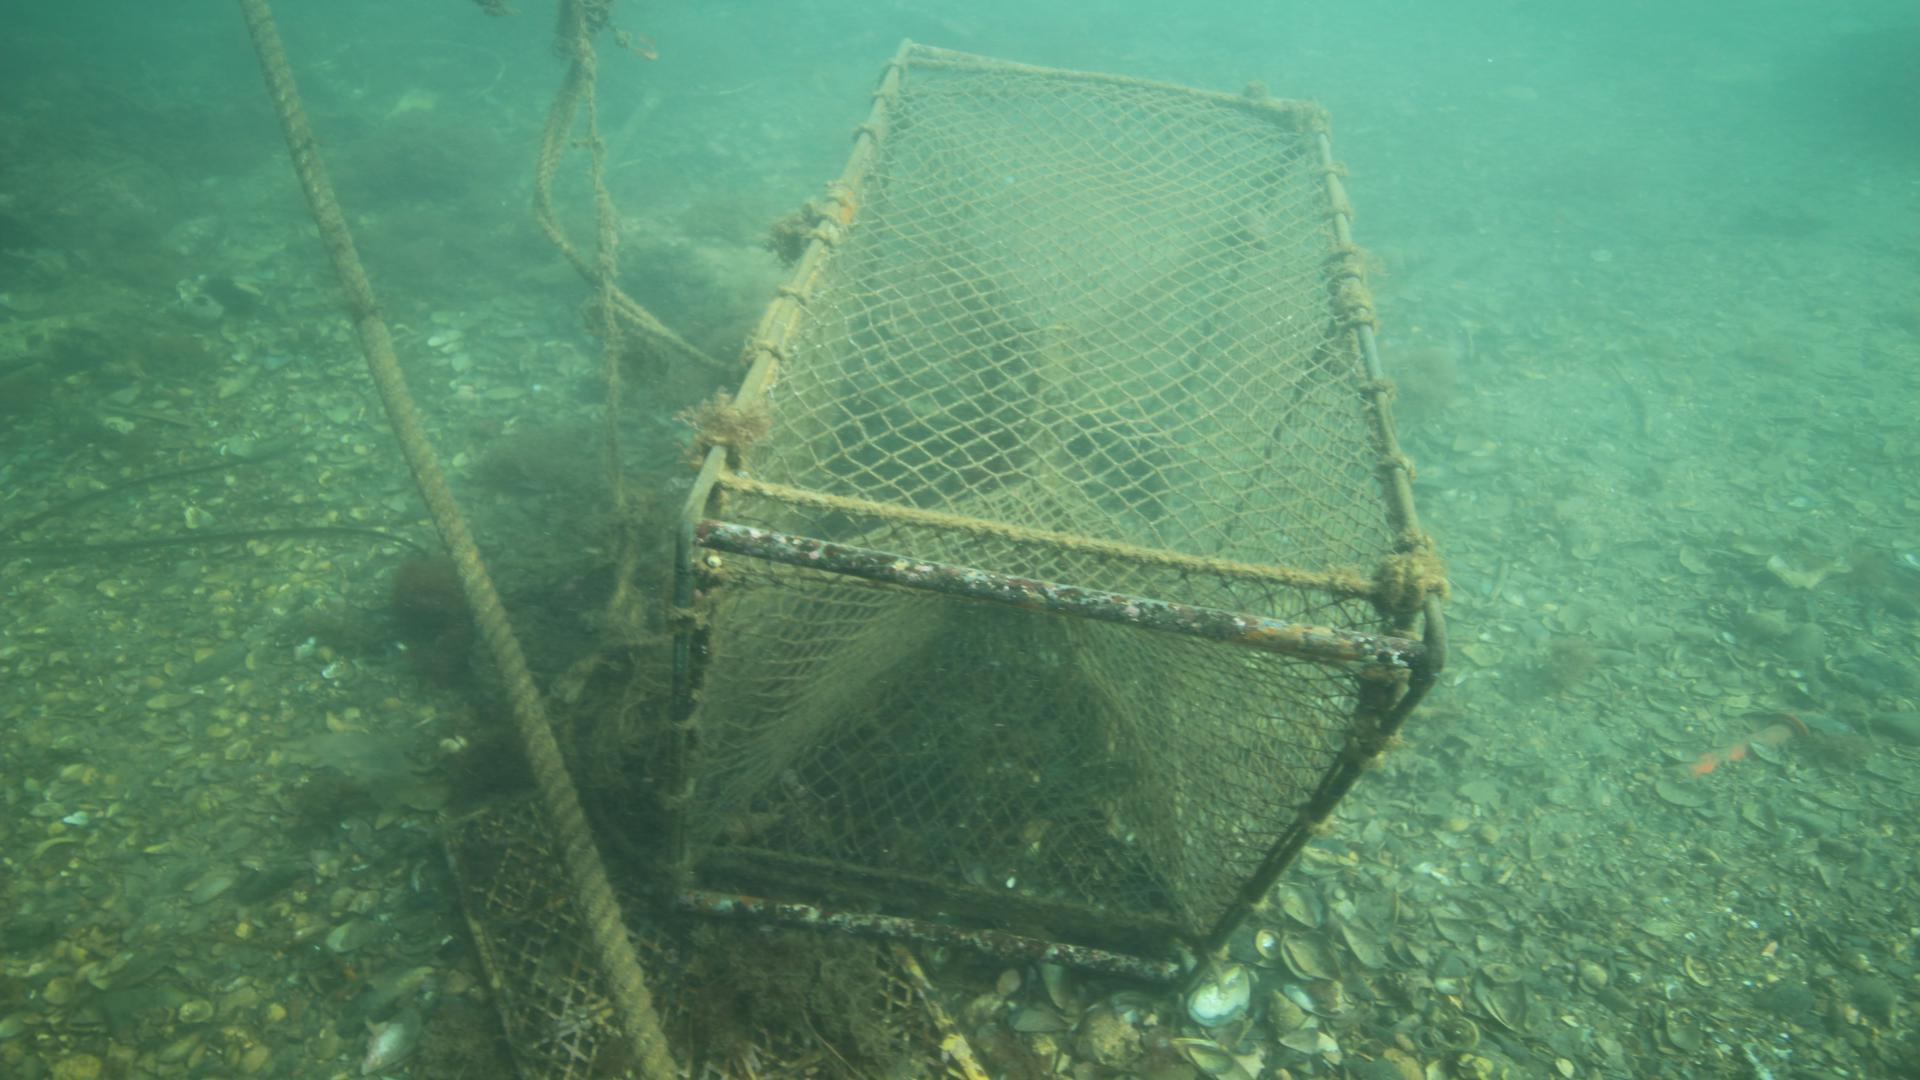bundle of ropes: (531, 0, 750, 382)
rectangular fish trap: (669, 36, 1451, 997)
rope: (236, 0, 688, 1080)
